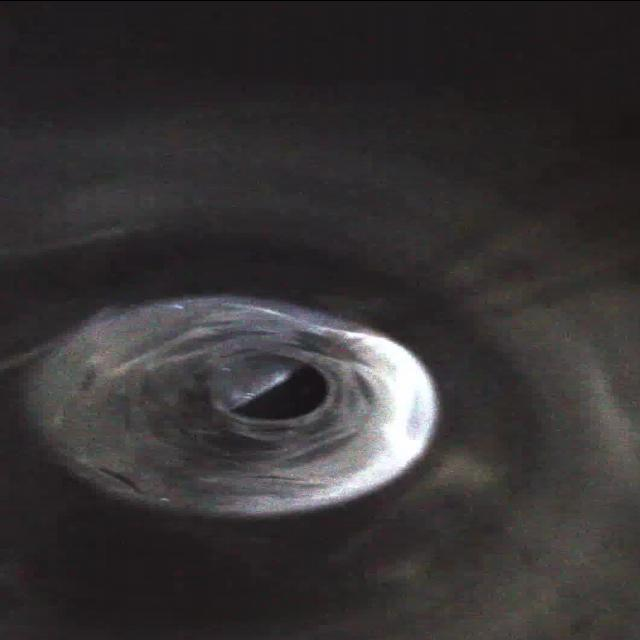crack: (62, 354, 153, 434), (342, 360, 432, 440), (174, 292, 282, 348), (78, 452, 158, 505), (242, 463, 336, 502)
